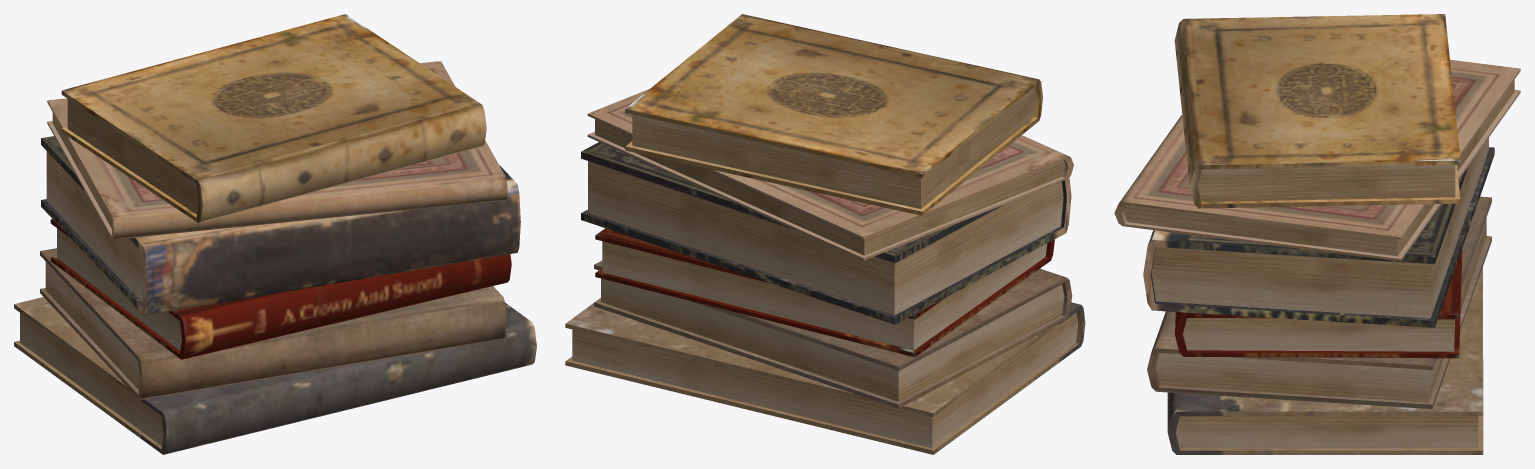
File: SM_Book_Old.003.fbx
The picture shows the model from 3 angles, left to right: view 1: azimuth 30°, elevation 25°; view 2: azimuth 150°, elevation 25°; view 3: azimuth 270°, elevation 25°; orthographic projection. The views are drawn at different scales.
Parts seen in each view (by area): view 1: SM_Book_Old.003; view 2: SM_Book_Old.003; view 3: SM_Book_Old.003.
Boxes of the visible parts, x1,y1,x2,y2 form: SM_Book_Old.003: (14, 14, 536, 454); SM_Book_Old.003: (565, 14, 1085, 454); SM_Book_Old.003: (1114, 14, 1520, 454).
Size of the model in its own units: 0.34 by 0.2086 by 0.2848.
